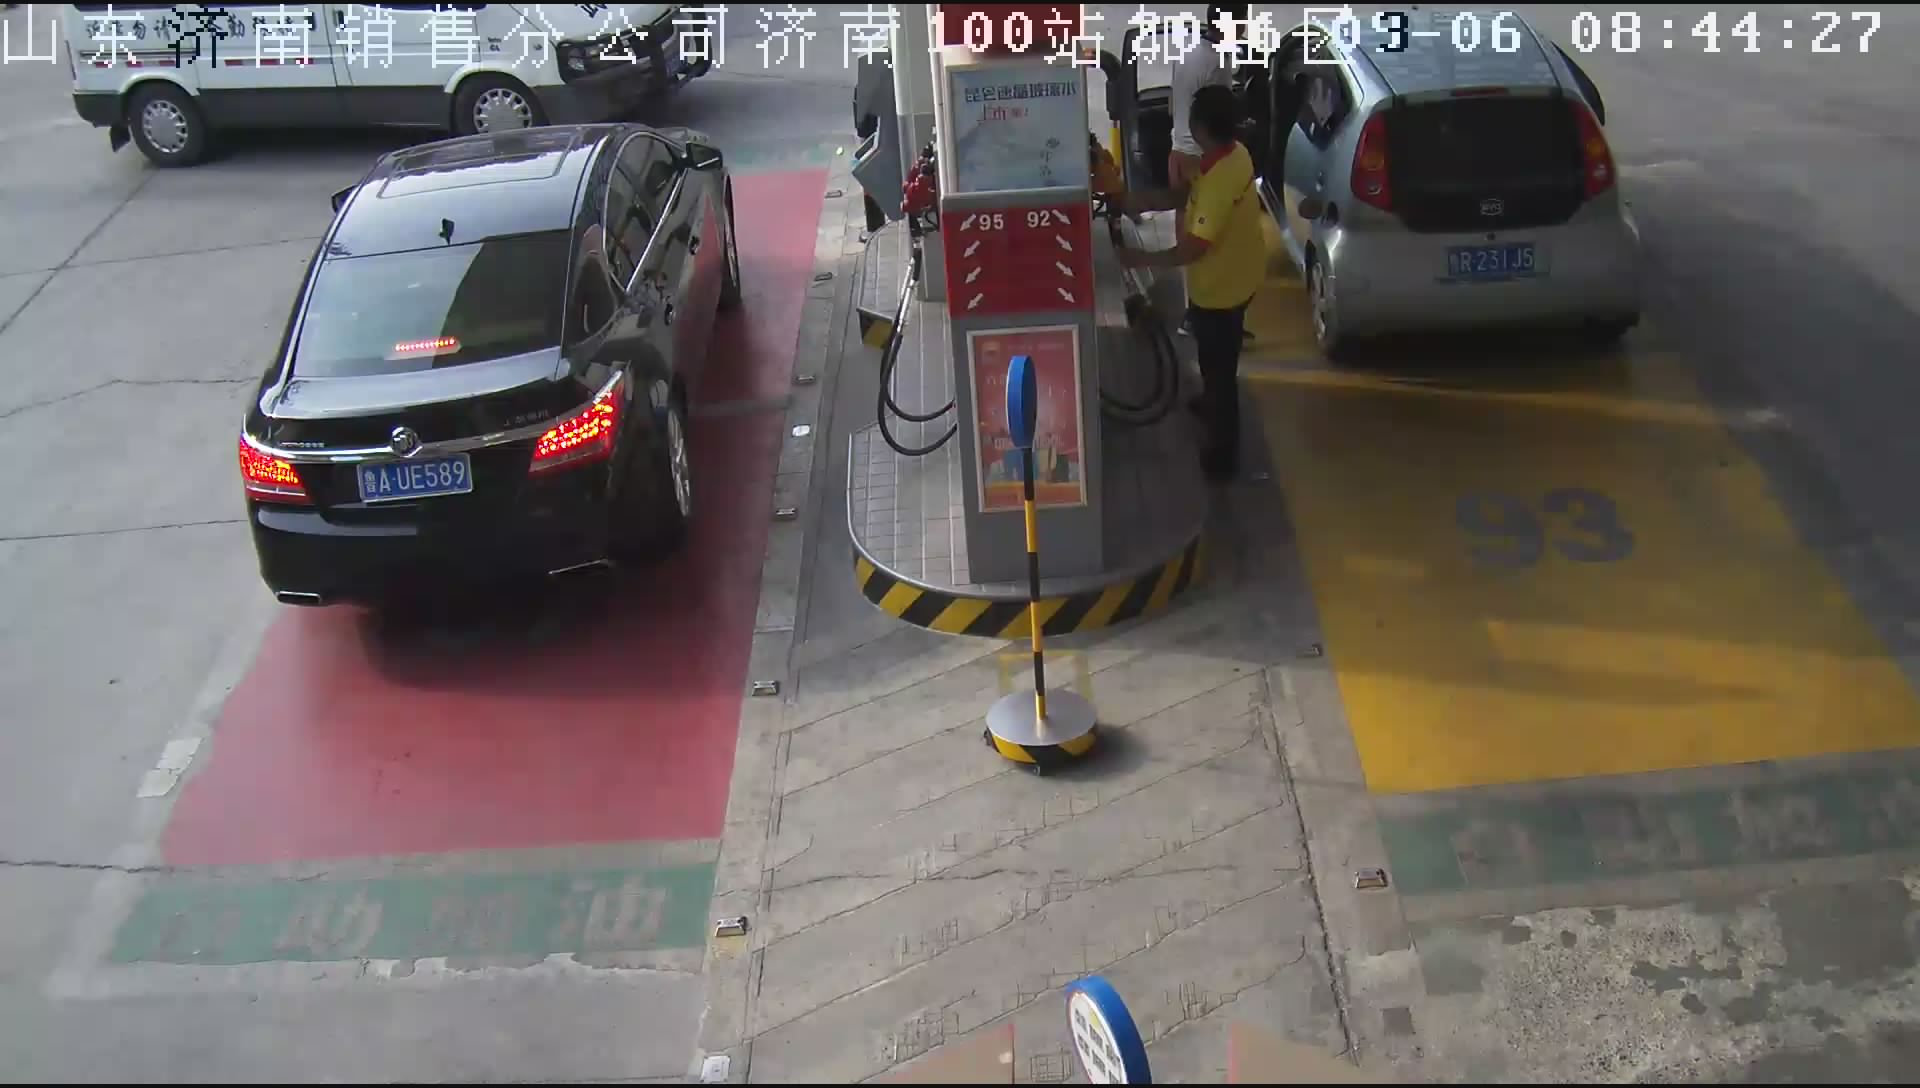blue: (356, 452, 475, 506), (1445, 243, 1538, 282)
